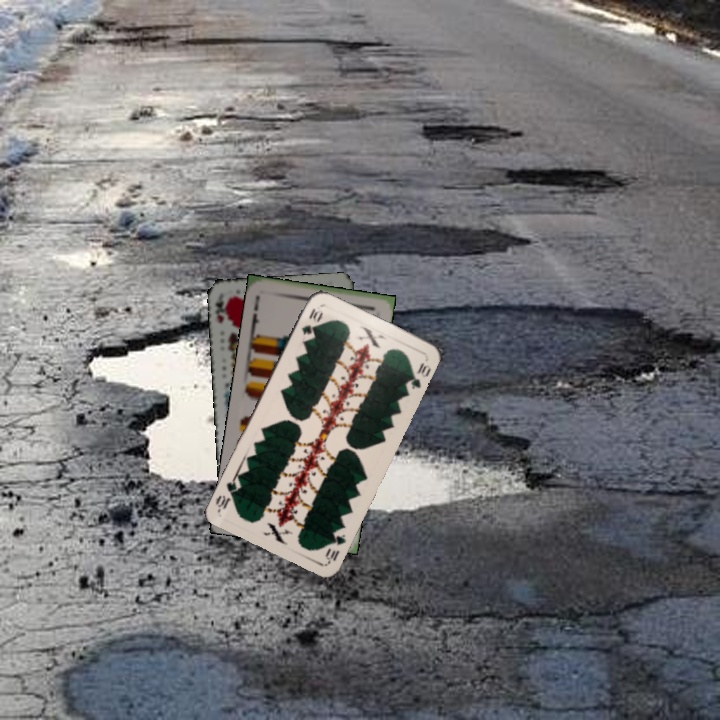E7: (247, 291, 262, 331)
G10: (321, 524, 348, 564), (297, 304, 325, 338)
HK: (211, 294, 230, 325)
